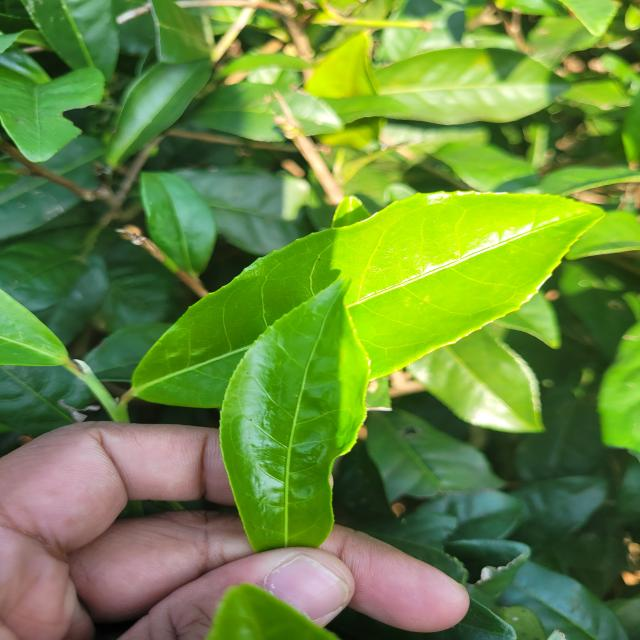Catagory A 1-2 days: (207, 267, 377, 550)
